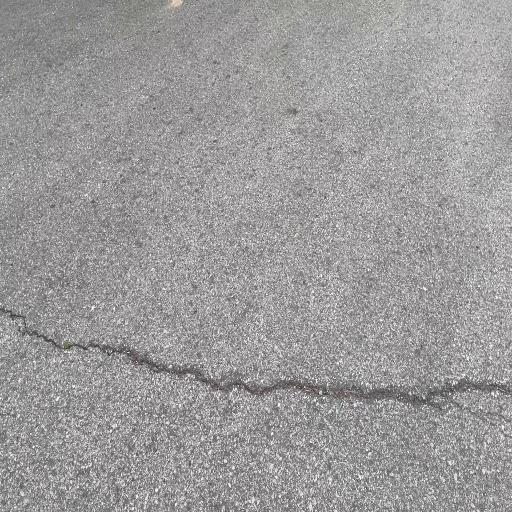Melintang: (0, 294, 512, 420)
